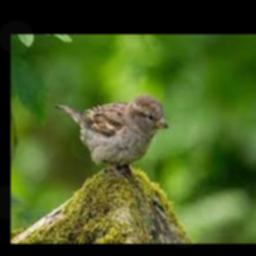Sparrow: (55, 92, 170, 177)
